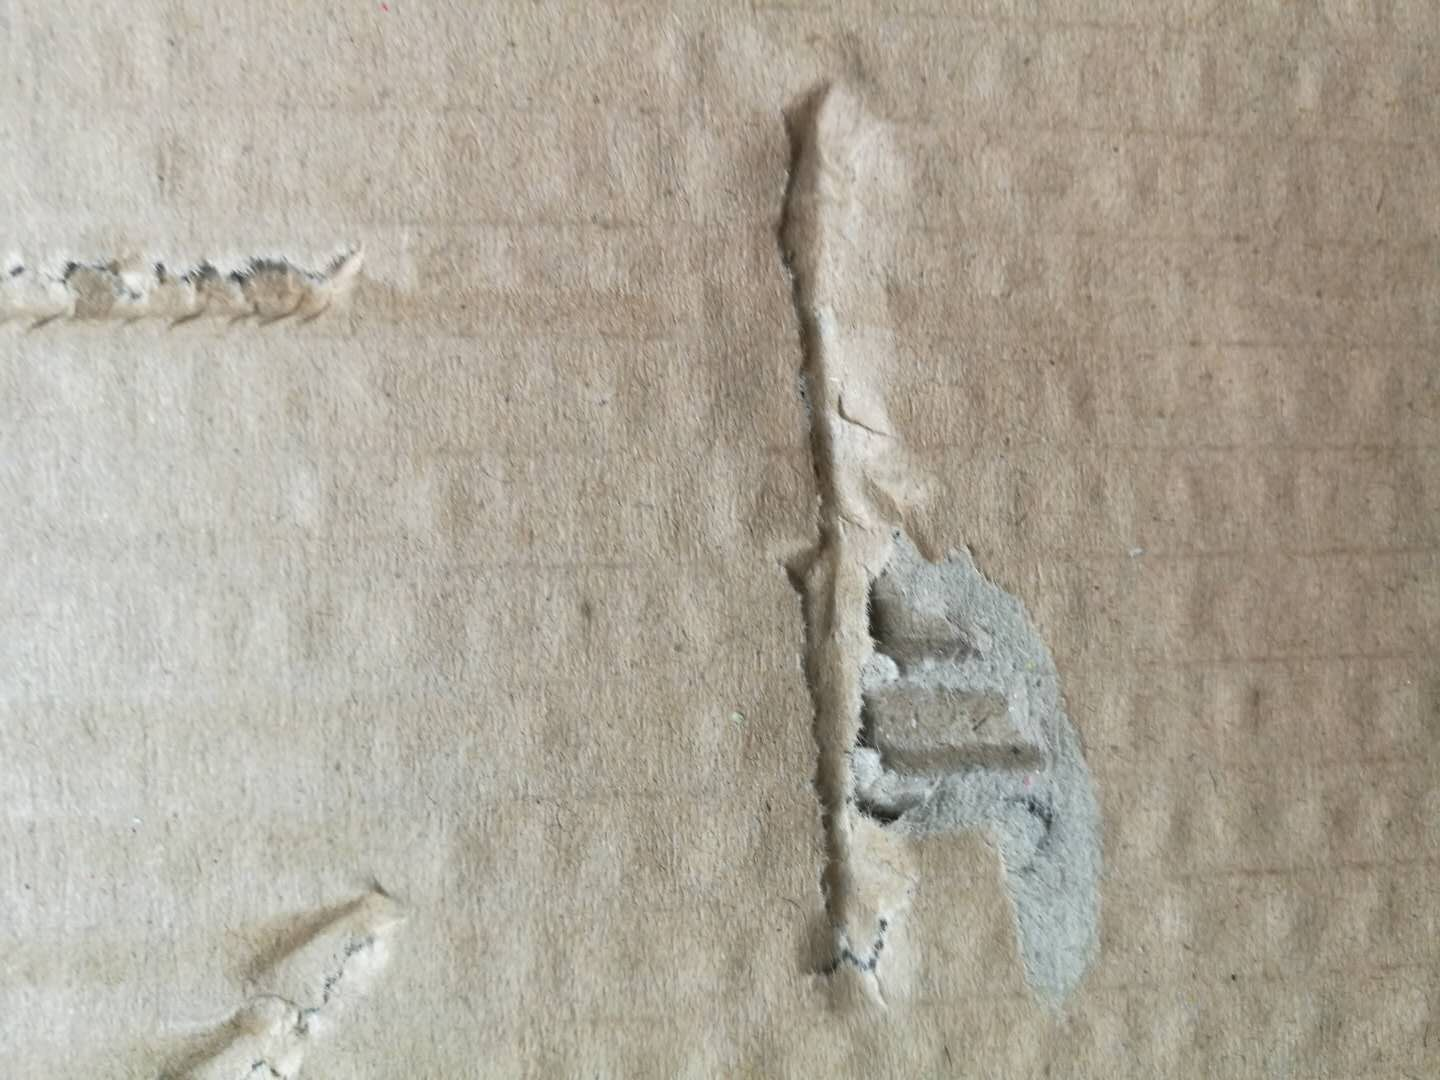defect: (693, 39, 1166, 1033), (1, 208, 695, 357), (111, 851, 440, 1080)
